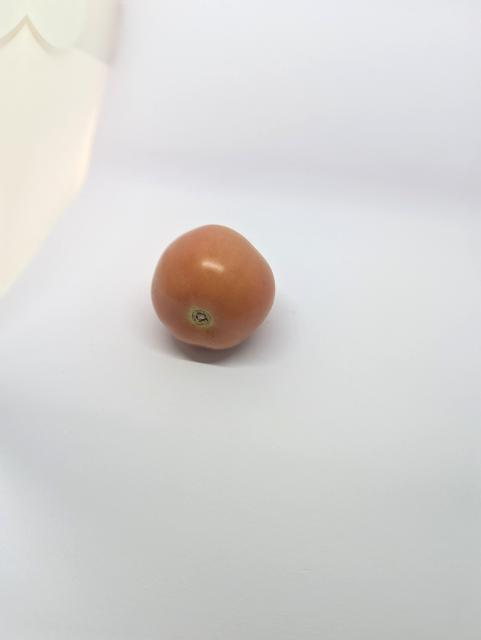turning: (142, 216, 292, 358)
